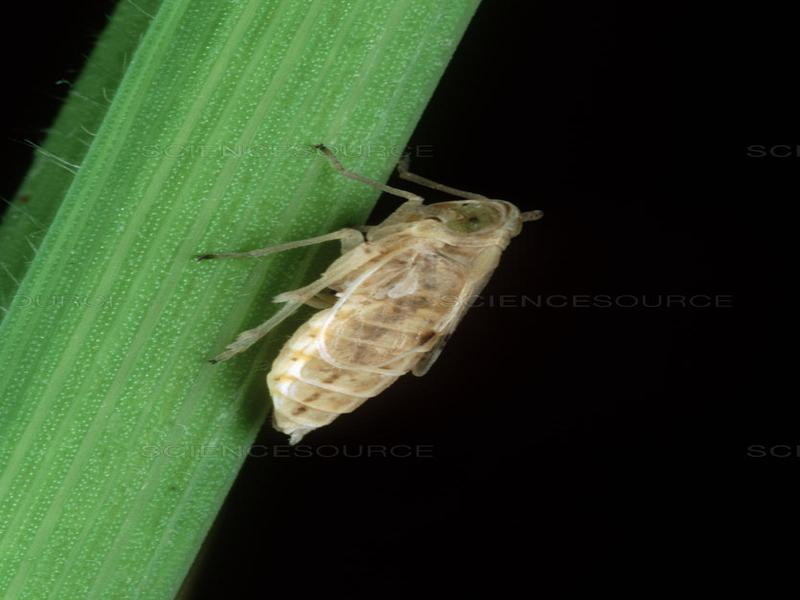White_backed_plant_hopper: (237, 179, 531, 454)
